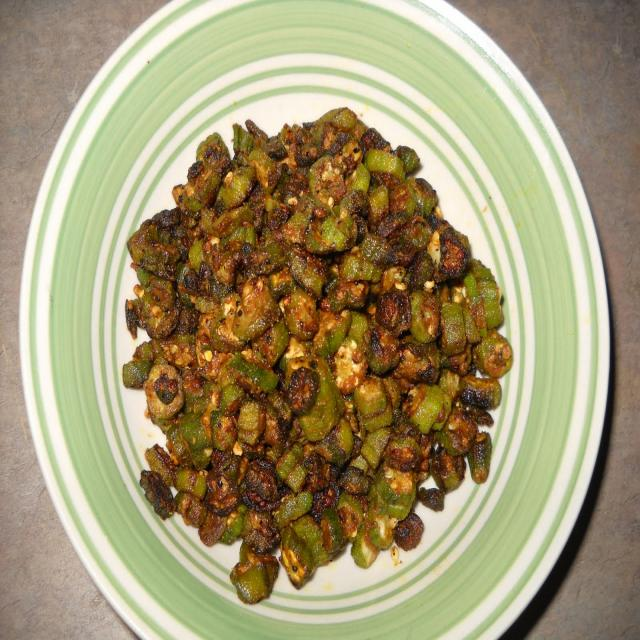BhindiMasala: (122, 106, 514, 605)
